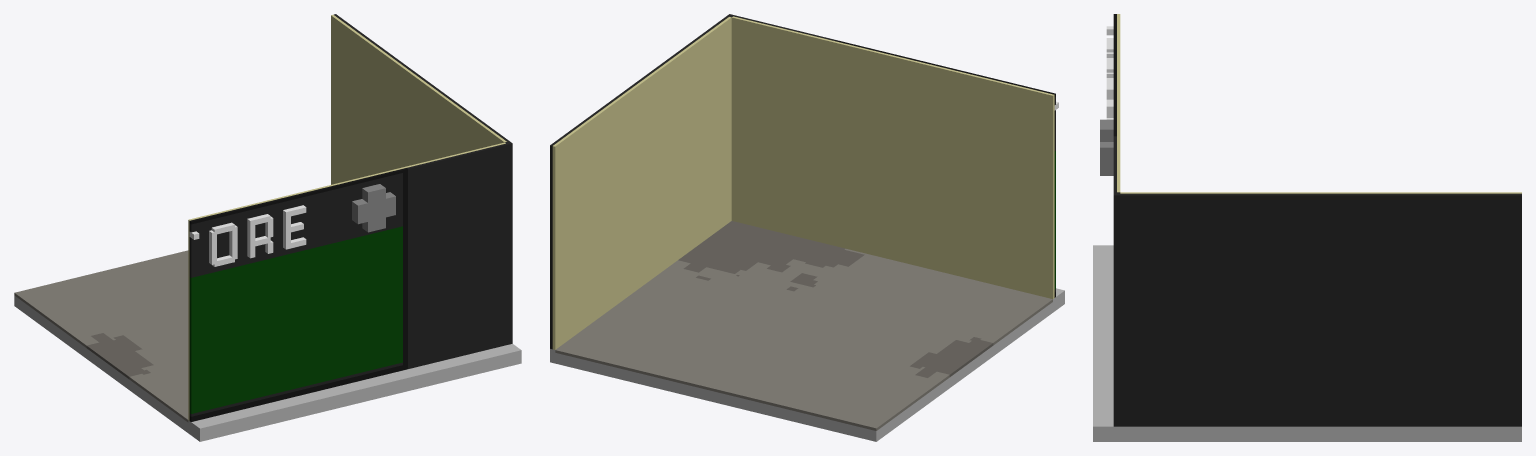
Rendered from 2x2 first (1)-3.obj.
The picture shows the model from 3 angles, left to right: view 1: azimuth 30°, elevation 25°; view 2: azimuth 150°, elevation 25°; view 3: azimuth 270°, elevation 25°; orthographic projection. The views are drawn at different scales.
Visible parts, largest first — view 1: 2x2 first (1)-3; view 2: 2x2 first (1)-3; view 3: 2x2 first (1)-3.
Boxes of the visible parts, box(x1,y1,x2,y2) form: 2x2 first (1)-3: box(14, 14, 521, 441); 2x2 first (1)-3: box(550, 14, 1064, 441); 2x2 first (1)-3: box(1093, 14, 1521, 441).
Bounding box in the file's own units: 126 × 80 × 126.
1 material, 1 textured.
